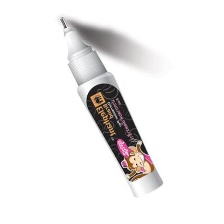correction_fluid: (55, 14, 163, 199)
